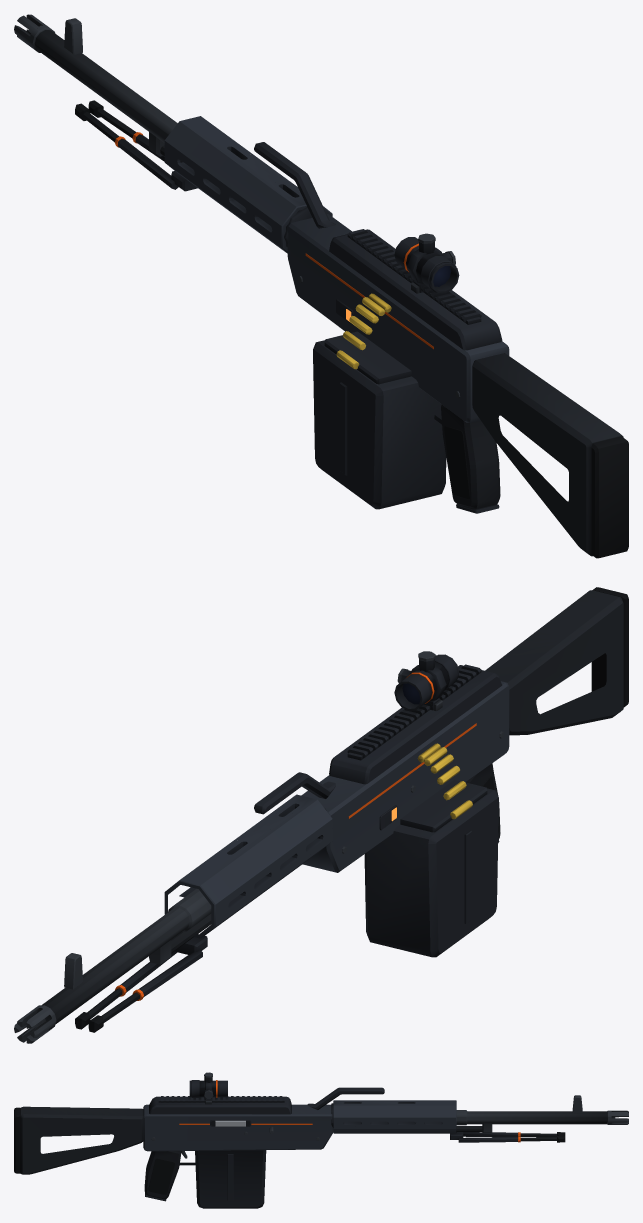
File: pkp-pecheneg.glb
3 views of the same model, one above another, from view 1: azimuth 30°, elevation 25°; view 2: azimuth 150°, elevation 25°; view 3: azimuth 270°, elevation 25° (orthographic). The views are drawn at different scales.
Visible parts, largest first — view 1: body_frame, mag_frame2, body_frame2, body_furn, body_steel, body_rubber, body_polymer, body_brass; view 2: body_frame, mag_frame2, body_furn, body_frame2, body_steel, body_rubber, body_brass, body_accent; view 3: body_frame, body_furn, body_frame2, mag_frame2, body_steel, body_rubber, body_polymer, body_accent, bolt_bolt.
Boxes of the visible parts, x1,y1,x2,y2 form: body_frame: (164,116,509,422); mag_frame2: (313,331,446,509); body_frame2: (118,134,502,513); body_furn: (472,353,623,556); body_steel: (14,14,460,398); body_rubber: (75,100,628,558); body_polymer: (441,404,500,509); body_brass: (336,293,391,369); body_frame: (164,681,509,938); mag_frame2: (364,779,498,957); body_furn: (485,590,623,735); body_frame2: (120,654,502,997); body_steel: (14,651,504,1043); body_rubber: (75,587,628,1032); body_brass: (417,743,472,819); body_accent: (115,672,476,1000); body_frame: (143,1100,456,1151); body_furn: (20,1106,143,1174); body_frame2: (145,1076,517,1201); mag_frame2: (195,1150,266,1208); body_steel: (151,1072,628,1158); body_rubber: (14,1107,565,1194); body_polymer: (144,1121,249,1199); body_accent: (179,1080,520,1142); bolt_bolt: (215,1120,245,1126).
Bounding box in the file's own units: 0.1205 × 0.2855 × 1.2.
